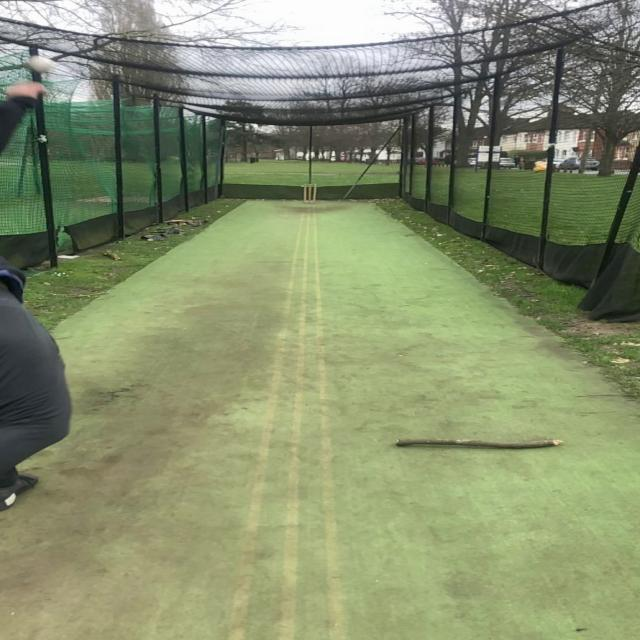ball: (24, 55, 55, 73)
